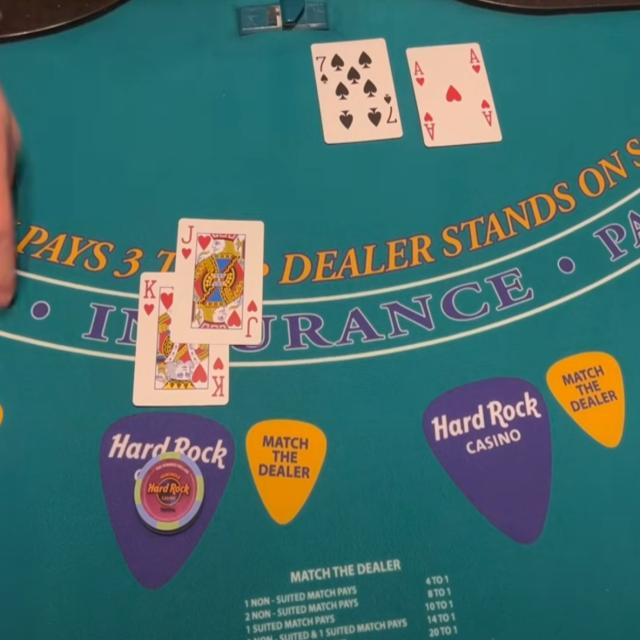7: (315, 54, 328, 73)
A: (412, 58, 428, 76)
J: (180, 223, 195, 246)
K: (142, 276, 158, 301)
